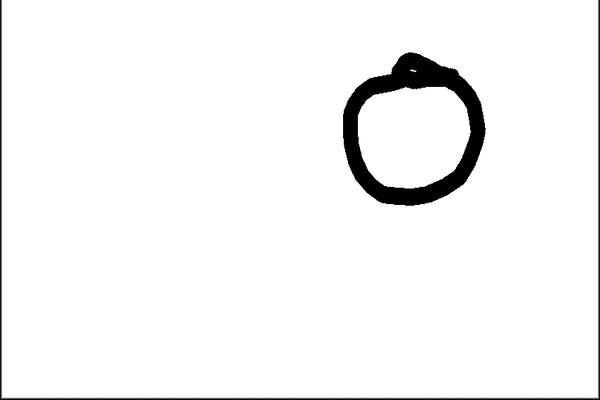O: (334, 41, 492, 215)
